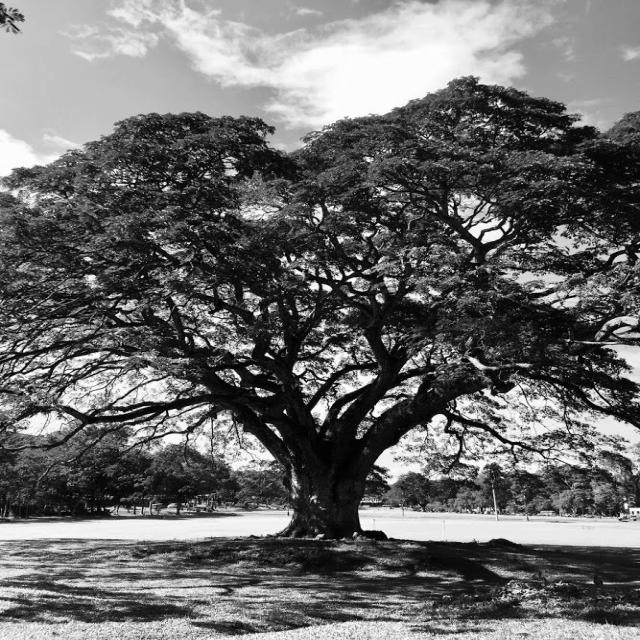Acacia: (15, 116, 629, 528)
